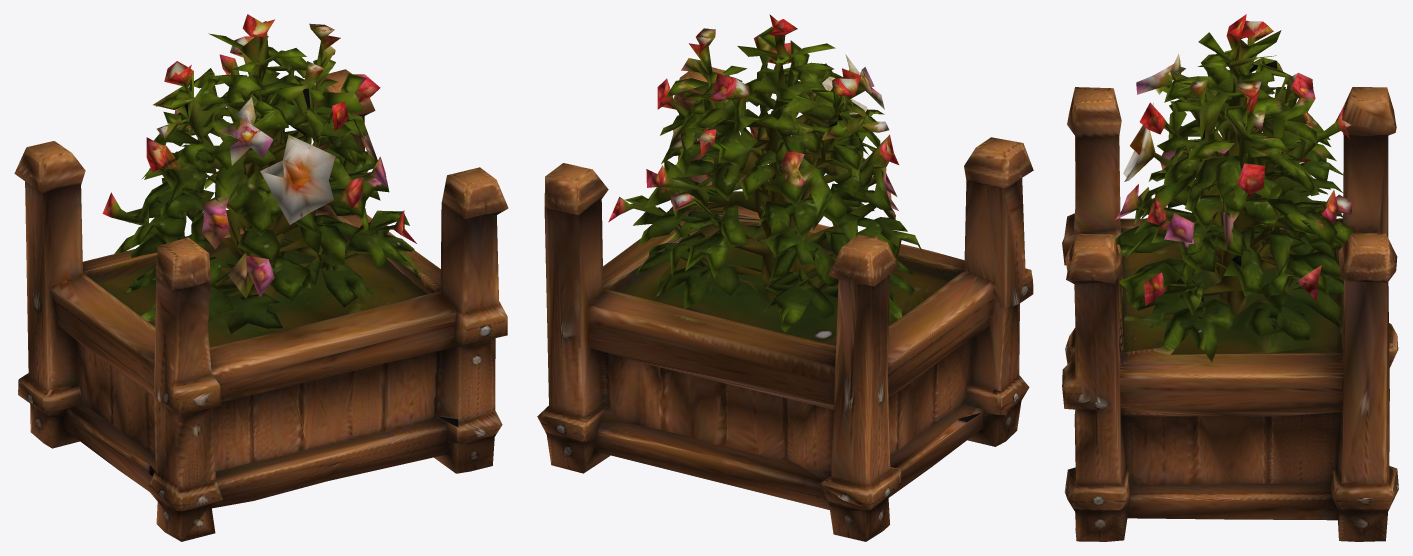
The model's file is maceta.glb.
3 renders of one model, left to right at view 1: azimuth 30°, elevation 25°; view 2: azimuth 150°, elevation 25°; view 3: azimuth 270°, elevation 25°, orthographic. The views are drawn at different scales.
Parts seen in each view (by area): view 1: maceta; view 2: maceta; view 3: maceta.
Boxes of the visible parts, left/top/right/bottom form: maceta: left=14, top=14, right=508, bottom=541; maceta: left=537, top=14, right=1033, bottom=541; maceta: left=1062, top=14, right=1398, bottom=541.
Size of what is drawn, in the model's own units: 0.3263 by 0.3993 by 0.2736.
Materials: 1 (1 with a texture image).
